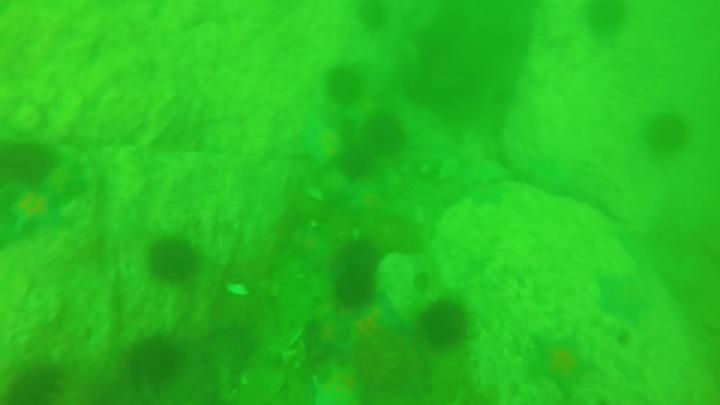echinus: (128, 335, 182, 389), (153, 239, 204, 285), (424, 304, 464, 346), (337, 275, 380, 313), (583, 3, 626, 40), (649, 114, 691, 151), (368, 115, 405, 156), (340, 241, 380, 277), (332, 67, 366, 105), (340, 149, 374, 179), (360, 1, 389, 29)
scallop: (224, 281, 249, 297)
starfish: (531, 327, 587, 385), (596, 272, 654, 323), (12, 183, 60, 235)
